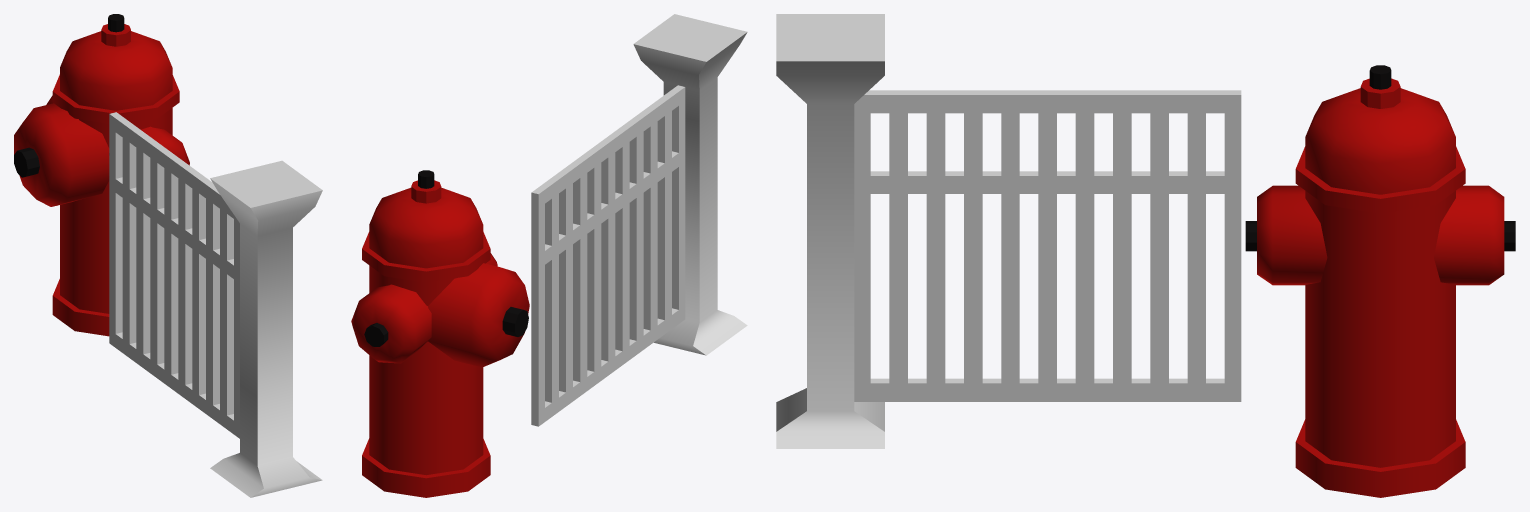
Rendered from Modulos Extra - Calle.fbx.
The picture shows the model from 3 angles, left to right: view 1: azimuth 30°, elevation 25°; view 2: azimuth 150°, elevation 25°; view 3: azimuth 270°, elevation 25°; orthographic projection. The views are drawn at different scales.
Visible parts, largest first — view 1: Reja, Hydrante, Columna de Reja; view 2: Hydrante, Reja, Columna de Reja; view 3: Reja, Hydrante, Columna de Reja.
Boxes of the visible parts, bbox=[...] form: Reja: bbox=[109, 112, 239, 438]; Hydrante: bbox=[14, 14, 189, 336]; Columna de Reja: bbox=[210, 160, 322, 497]; Hydrante: bbox=[351, 170, 529, 497]; Reja: bbox=[531, 85, 685, 426]; Columna de Reja: bbox=[633, 14, 747, 355]; Reja: bbox=[854, 90, 1241, 401]; Hydrante: bbox=[1245, 65, 1515, 497]; Columna de Reja: bbox=[776, 14, 884, 448].
Bounding box in the file's own units: 20.62 × 38.3 × 65.49.
